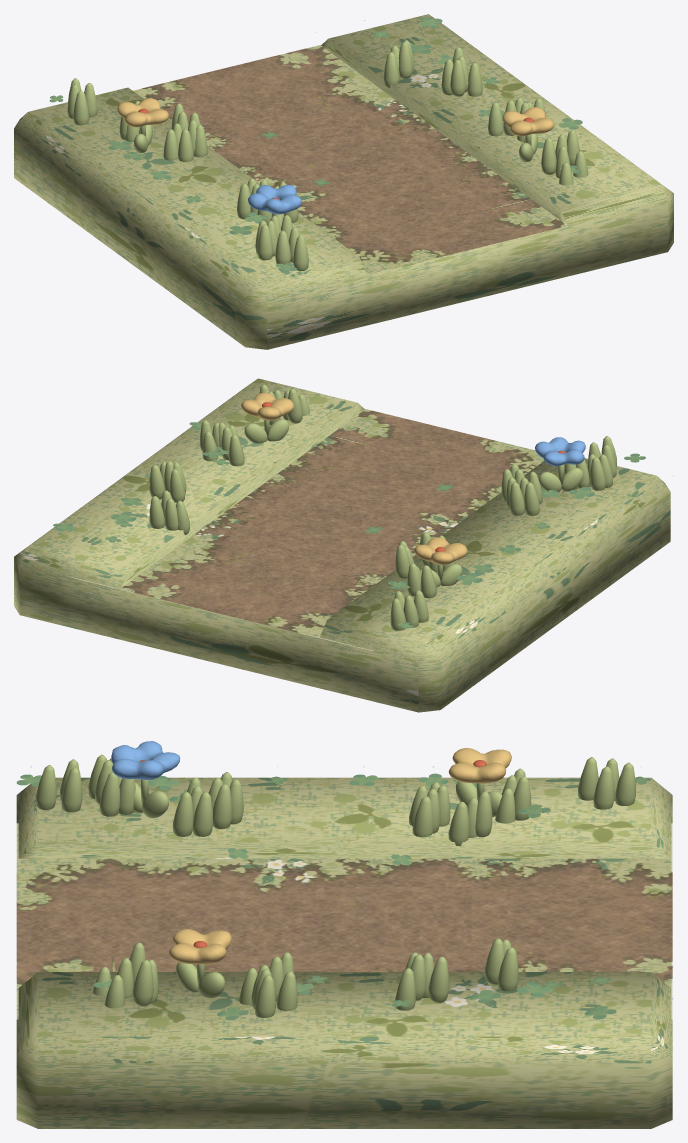
The model's file is road.fbx.
The picture shows the model from 3 angles, top to bottom: view 1: azimuth 30°, elevation 25°; view 2: azimuth 150°, elevation 25°; view 3: azimuth 270°, elevation 25°; orthographic projection. The views are drawn at different scales.
Visible parts, largest first — view 1: Cube.006; view 2: Cube.006; view 3: Cube.006.
Part boxes in pixels (x1=…): Cube.006: x1=14, y1=14, x2=673, y2=349; Cube.006: x1=14, y1=378, x2=673, y2=712; Cube.006: x1=16, y1=741, x2=673, y2=1128.
Size of the model in its own units: 200 by 48.98 by 201.
7 materials, 3 textured.
